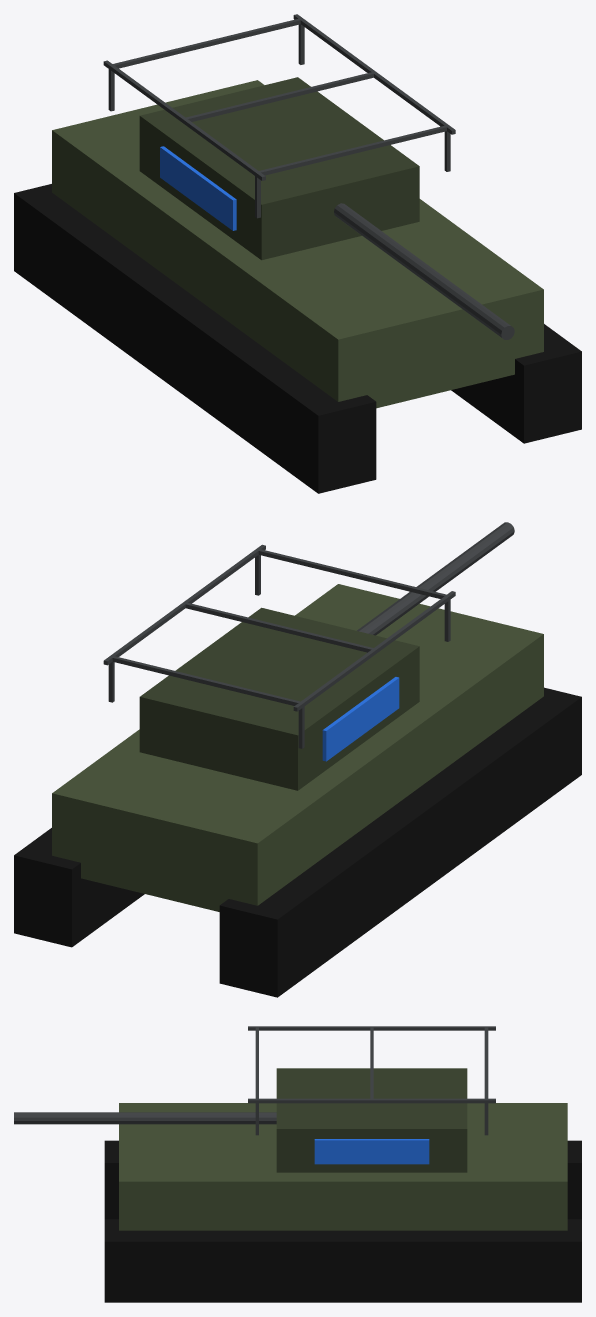
File: kp_mbt.glb
3 renders of one model, top to bottom at view 1: azimuth 30°, elevation 25°; view 2: azimuth 150°, elevation 25°; view 3: azimuth 270°, elevation 25°, orthographic. The views are drawn at different scales.
Parts seen in each view (by area): view 1: hull, track_l, turret, track_r, barrel, team_panel_l, cage_rail_0, cage_rail_1, cage_bar_2, cage_bar_1, cage_bar_0; view 2: hull, track_l, turret, track_r, barrel, team_panel_l, cage_rail_0, cage_rail_1, cage_bar_1, cage_bar_0, cage_bar_2; view 3: hull, track_r, turret, barrel, team_panel_r, track_l, cage_rail_1, cage_rail_0.
Part boxes in pixels (x1=…): hull: x1=52, y1=80, x2=543, y2=408; track_l: x1=14, y1=184, x2=376, y2=493; turret: x1=139, y1=77, x2=419, y2=260; track_r: x1=451, y1=324, x2=581, y2=443; barrel: x1=334, y1=203, x2=514, y2=339; team_panel_l: x1=160, y1=146, x2=236, y2=230; cage_rail_0: x1=103, y1=60, x2=265, y2=180; cage_rail_1: x1=293, y1=14, x2=455, y2=134; cage_bar_2: x1=112, y1=18, x2=302, y2=68; cage_bar_1: x1=184, y1=71, x2=374, y2=121; cage_bar_0: x1=258, y1=125, x2=446, y2=175; hull: x1=52, y1=584, x2=543, y2=911; track_l: x1=219, y1=687, x2=581, y2=997; turret: x1=139, y1=607, x2=419, y2=790; track_r: x1=14, y1=828, x2=144, y2=947; barrel: x1=357, y1=522, x2=514, y2=635; team_panel_l: x1=322, y1=677, x2=399, y2=761; cage_rail_0: x1=293, y1=591, x2=455, y2=711; cage_rail_1: x1=103, y1=544, x2=265, y2=665; cage_bar_1: x1=184, y1=602, x2=374, y2=652; cage_bar_0: x1=257, y1=549, x2=447, y2=598; cage_bar_2: x1=111, y1=656, x2=301, y2=705; hull: x1=119, y1=1103, x2=567, y2=1230; track_r: x1=104, y1=1219, x2=581, y2=1302; turret: x1=276, y1=1068, x2=467, y2=1172; barrel: x1=14, y1=1112, x2=276, y2=1124; team_panel_r: x1=314, y1=1139, x2=429, y2=1164; track_l: x1=104, y1=1140, x2=581, y2=1219; cage_rail_1: x1=248, y1=1098, x2=495, y2=1103; cage_rail_0: x1=248, y1=1026, x2=495, y2=1030.
Bounding box in the file's own units: 3.5 × 3.06 × 8.33.
